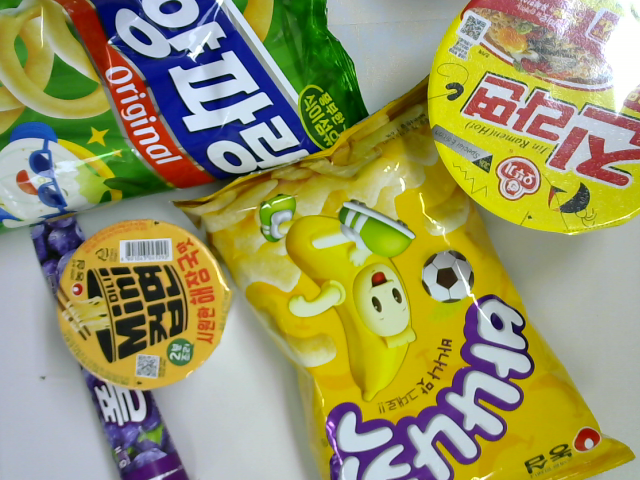Banana_Kick: (168, 70, 636, 480)
Hejangmini: (56, 217, 233, 395)
Jinlamyeon_Hot_Taste_Large_Cup: (424, 1, 640, 245)
Oninon_Ring: (1, 1, 369, 233)
Polapo_Grape: (27, 212, 191, 480)
